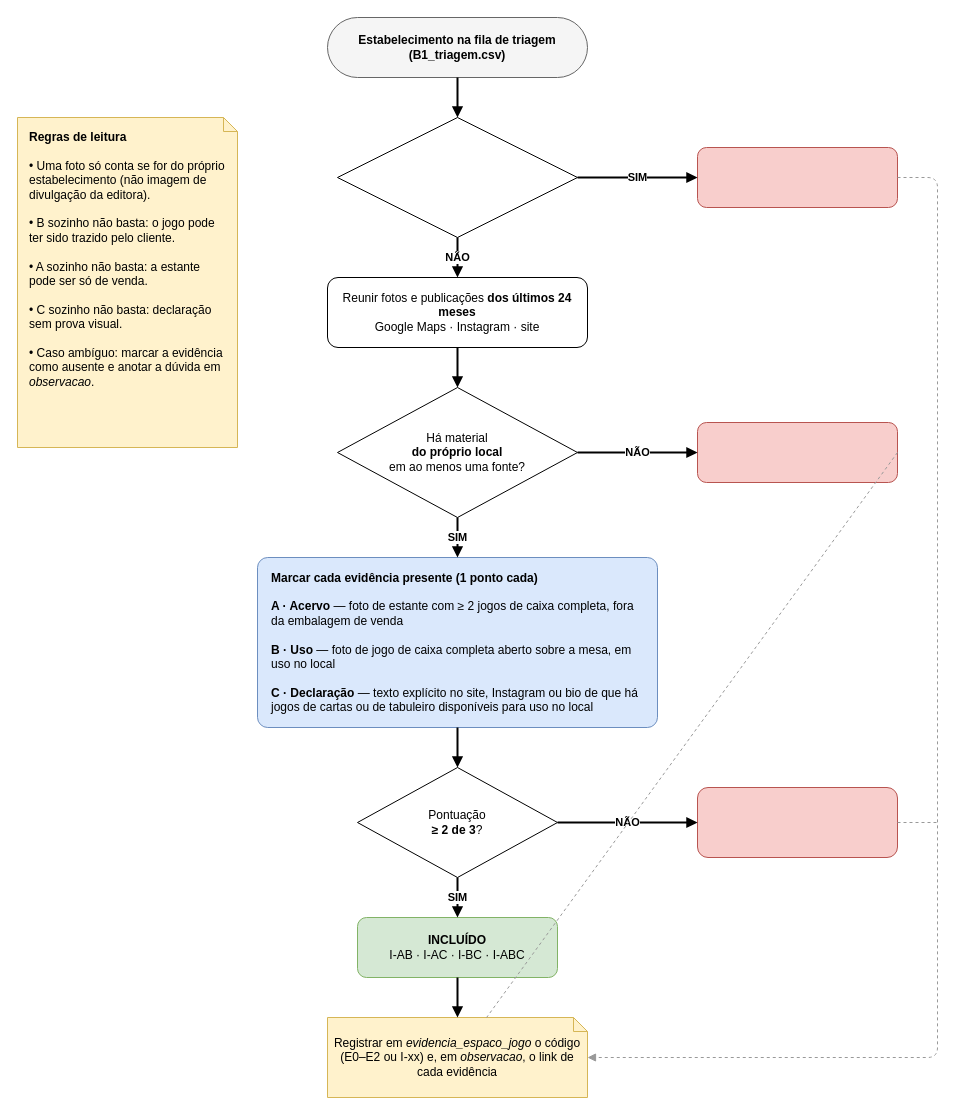
This 963x1115 diagram has some shape labels left out. The box of each missing label's shape, as (x1, y1, x2, y2) in pixels:
EXCLUÍDO E0 · fechado: (696, 146, 898, 208)
EXCLUÍDO E1 · sem evidência verificável: (696, 422, 898, 482)
EXCLUÍDO E2 · evidência insuficiente (0 ou 1 ponto): (696, 786, 898, 858)
Google Maps indica fechado permanentemente ?: (336, 116, 578, 238)
